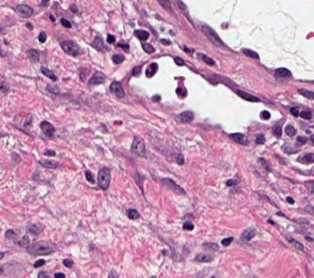nucleus: (201, 25, 223, 46), (162, 178, 184, 193), (131, 136, 145, 156), (61, 40, 79, 55), (98, 167, 110, 189), (236, 90, 259, 101), (14, 4, 33, 16), (110, 81, 124, 97), (40, 121, 54, 136), (41, 67, 56, 80), (89, 71, 104, 84), (230, 133, 247, 144), (92, 36, 104, 50), (178, 111, 193, 122), (242, 48, 258, 58), (241, 228, 254, 240), (146, 63, 157, 77), (201, 54, 214, 65), (28, 224, 41, 235), (134, 30, 148, 40), (39, 160, 58, 167), (27, 49, 38, 61), (259, 158, 270, 170), (18, 235, 29, 246), (142, 43, 154, 53), (127, 209, 139, 219), (203, 242, 218, 250), (112, 54, 124, 63), (85, 170, 93, 182), (60, 18, 70, 27), (176, 87, 186, 96), (260, 110, 270, 119), (38, 31, 46, 42), (221, 237, 232, 245), (132, 66, 141, 75), (255, 134, 264, 143), (174, 57, 184, 65), (273, 126, 281, 136), (183, 222, 193, 230), (5, 230, 15, 238), (47, 85, 58, 92), (176, 1, 185, 8), (107, 34, 114, 43), (118, 43, 128, 49), (177, 155, 183, 164), (44, 150, 54, 155), (226, 180, 235, 185), (26, 23, 32, 29), (71, 5, 76, 11), (162, 39, 169, 43), (152, 96, 159, 100)
